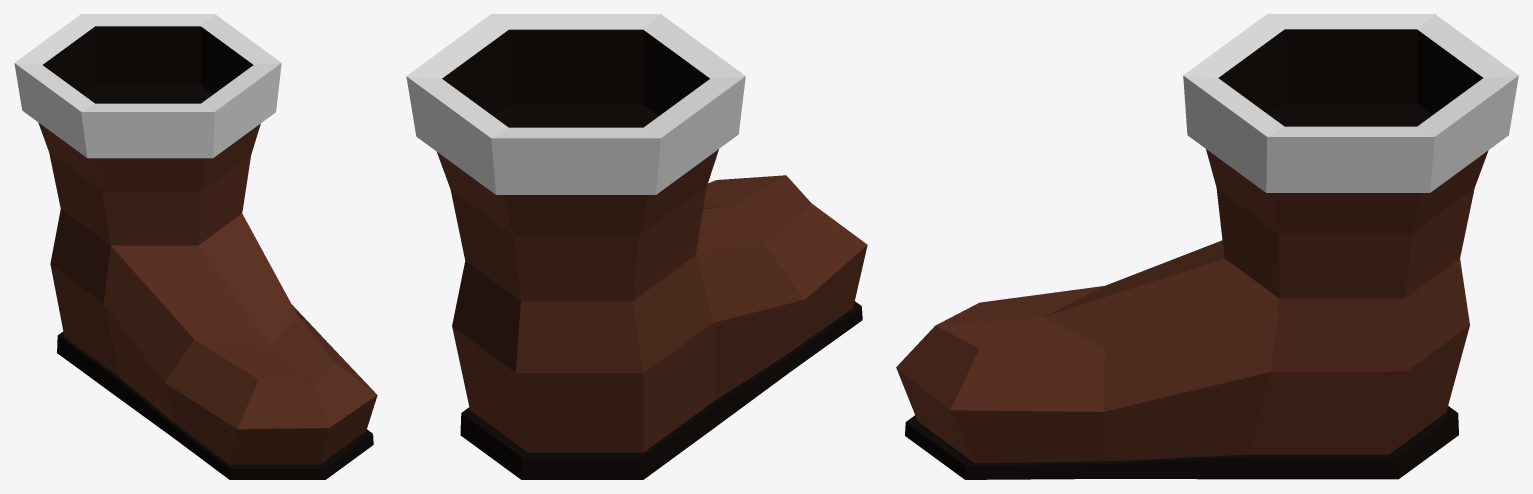
File: boot.glb
3 renders of one model, left to right at view 1: azimuth 30°, elevation 25°; view 2: azimuth 150°, elevation 25°; view 3: azimuth 270°, elevation 25°, orthographic. The views are drawn at different scales.
Visible parts, largest first — view 1: Cylinder; view 2: Cylinder; view 3: Cylinder.
Part boxes in pixels (<box>): Cylinder: <box>14,14,377,479</box>; Cylinder: <box>406,14,867,479</box>; Cylinder: <box>896,14,1518,479</box>.
Size of the model in its own units: 2.36 by 3.23 by 5.05.
